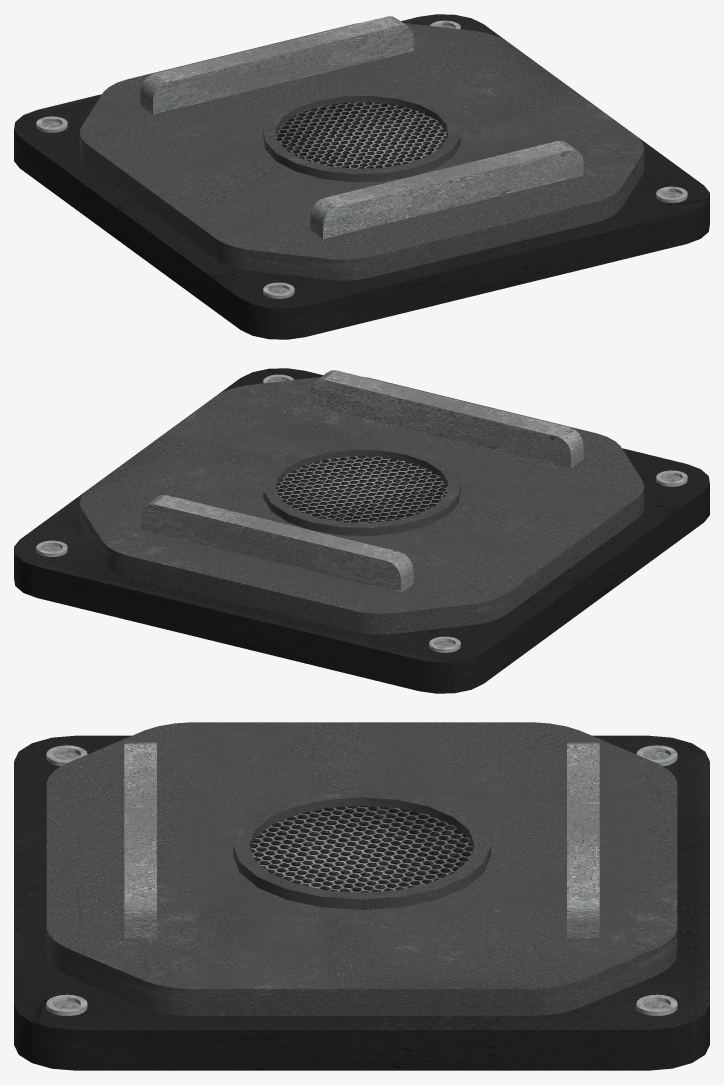
File: F_Speaker_01.fbx
3 views of the same model, one above another, from view 1: azimuth 30°, elevation 25°; view 2: azimuth 150°, elevation 25°; view 3: azimuth 270°, elevation 25° (orthographic). The views are drawn at different scales.
Visible parts, largest first — view 1: F_Speaker_01; view 2: F_Speaker_01; view 3: F_Speaker_01.
Boxes of the visible parts, x1=… form: F_Speaker_01: x1=14, y1=14, x2=709, y2=339; F_Speaker_01: x1=14, y1=368, x2=709, y2=693; F_Speaker_01: x1=14, y1=722, x2=709, y2=1070.
Size of the model in its own units: 30 by 5 by 30.
1 material, 1 textured.
